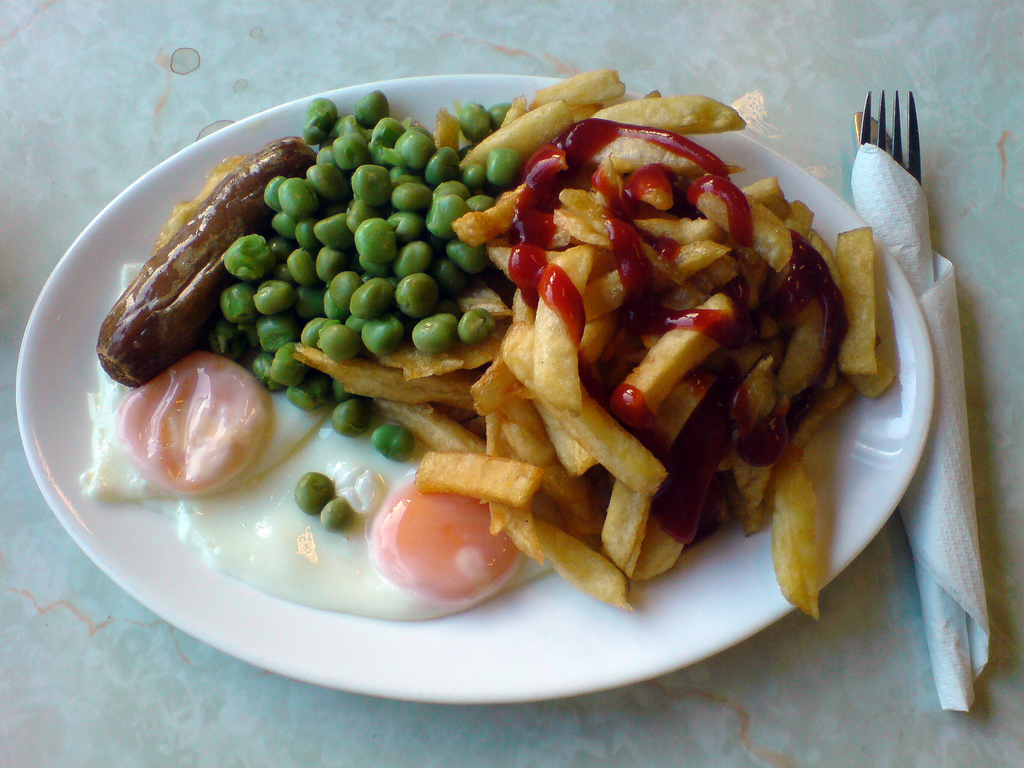boiled peas: (317, 117, 445, 325)
fried egg: (88, 386, 517, 607)
